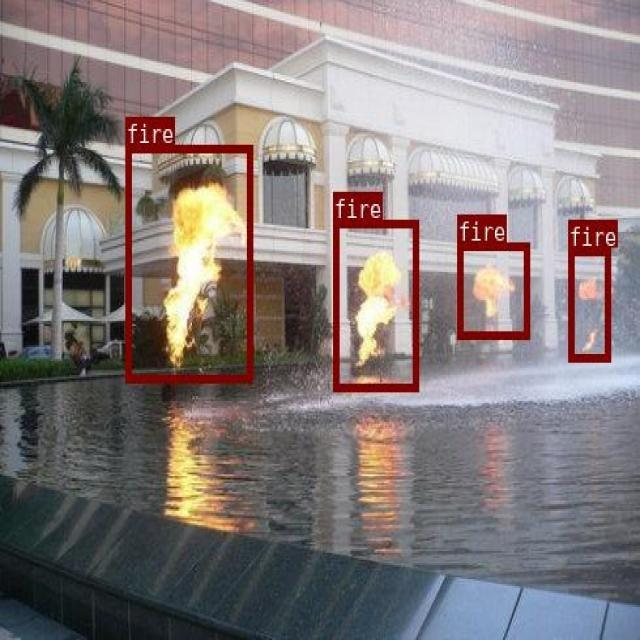fire: (125, 144, 252, 381), (332, 219, 417, 390), (456, 241, 529, 337), (567, 246, 610, 361)
